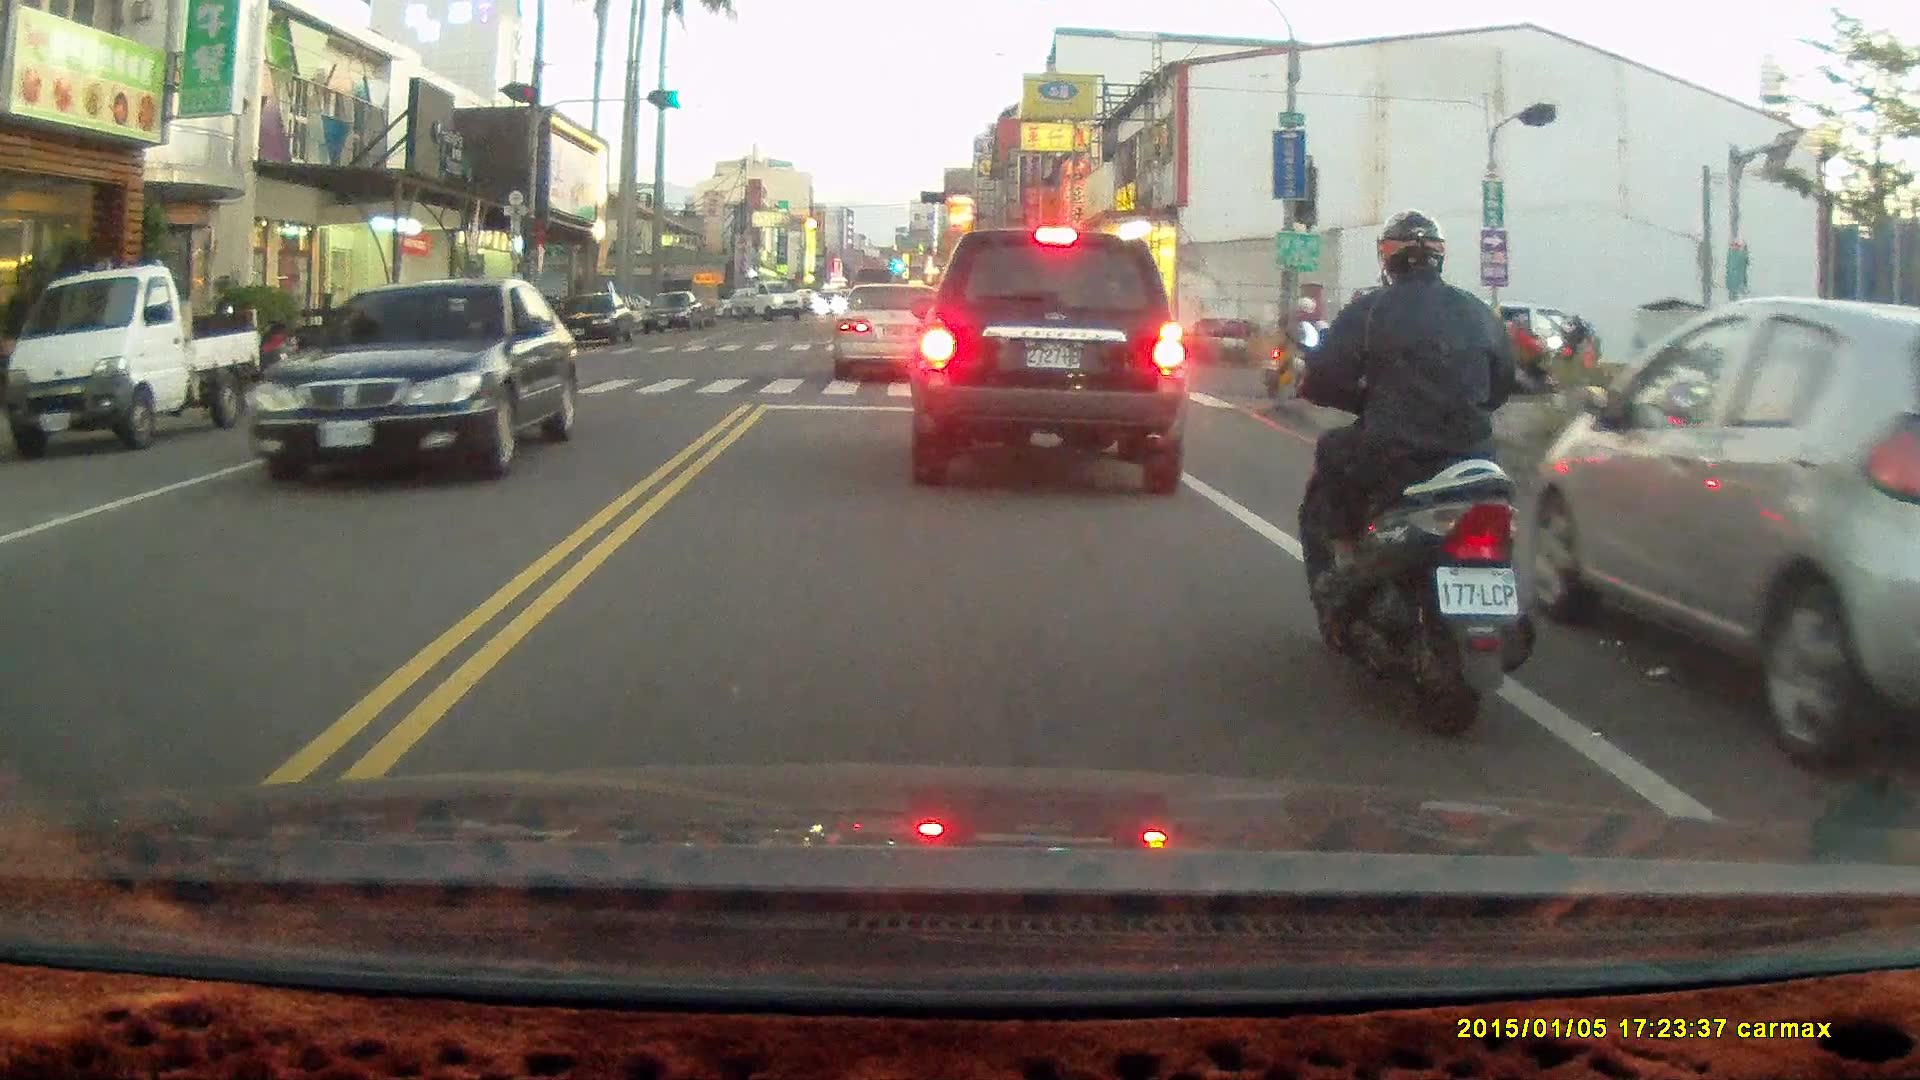rider: (1282, 211, 1541, 740), (1267, 298, 1352, 399), (1534, 312, 1604, 395)
vehicle: (1526, 297, 1920, 775), (907, 226, 1190, 498), (240, 277, 584, 486), (2, 268, 264, 458), (833, 283, 943, 380), (554, 293, 641, 350), (639, 292, 708, 337)
